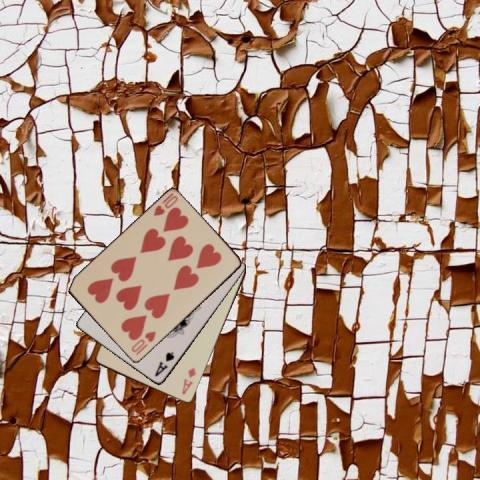10h: (128, 329, 157, 357), (151, 190, 179, 218)
Ad: (180, 364, 198, 396)
As: (152, 349, 176, 378)
